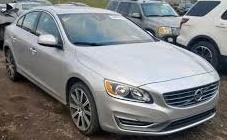Cars: (5, 6, 220, 136)
